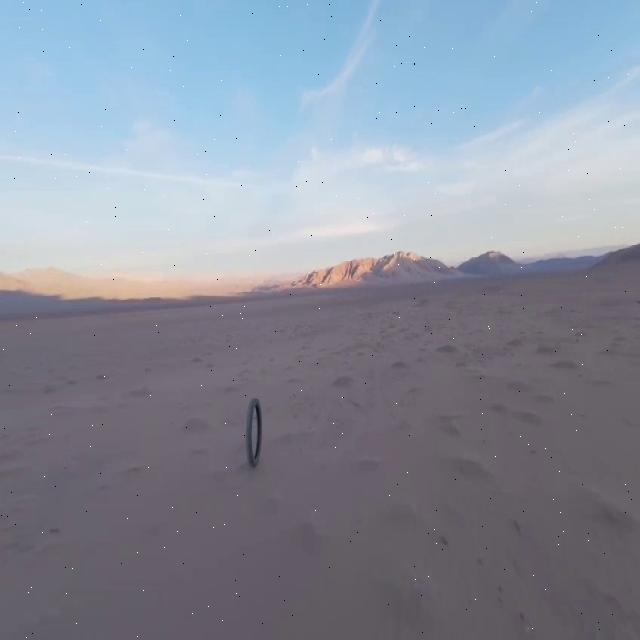Tire: (246, 399, 262, 466)
